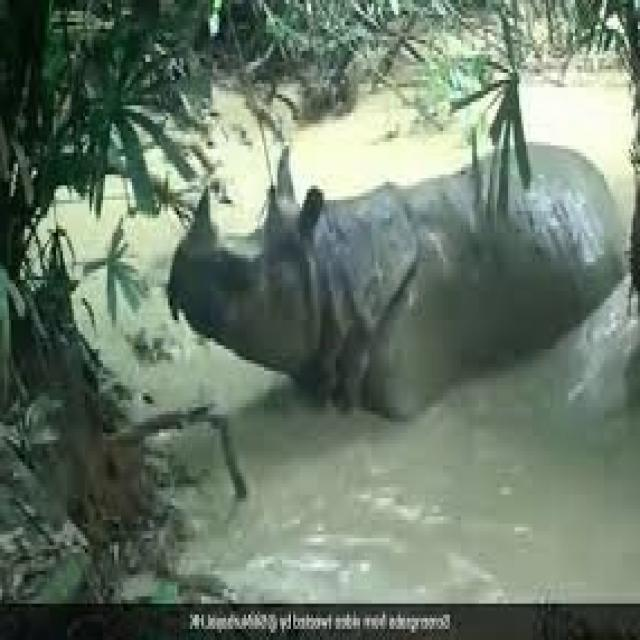rhinoceros: (170, 142, 624, 415)
